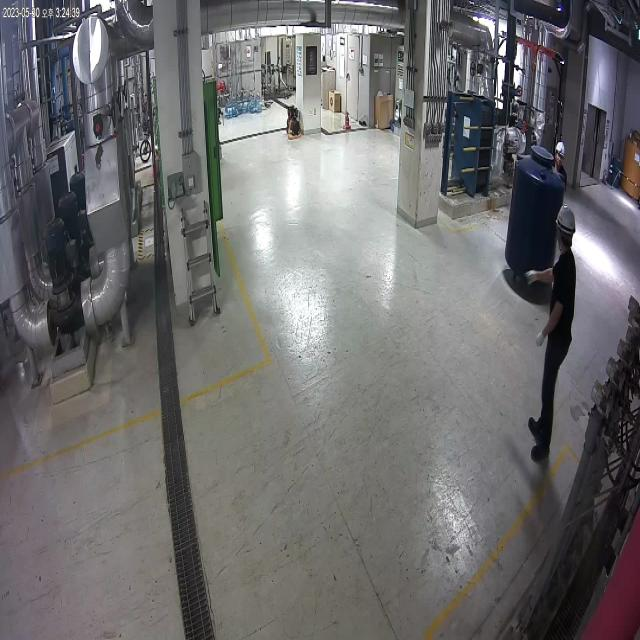Water Tank: (494, 136, 568, 305)
worker: (519, 198, 584, 466), (550, 138, 576, 202)
